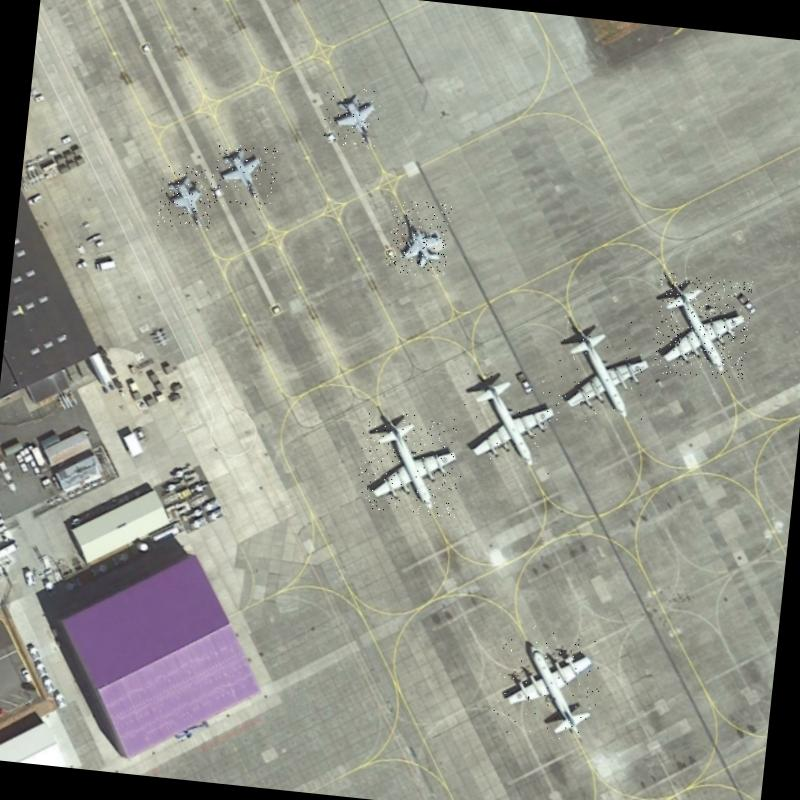A16: (384, 198, 451, 278), (212, 142, 278, 210), (157, 163, 216, 231), (322, 85, 382, 150)
A9: (489, 622, 606, 744), (550, 314, 658, 430), (352, 410, 466, 518), (454, 364, 560, 478), (649, 272, 754, 382)
